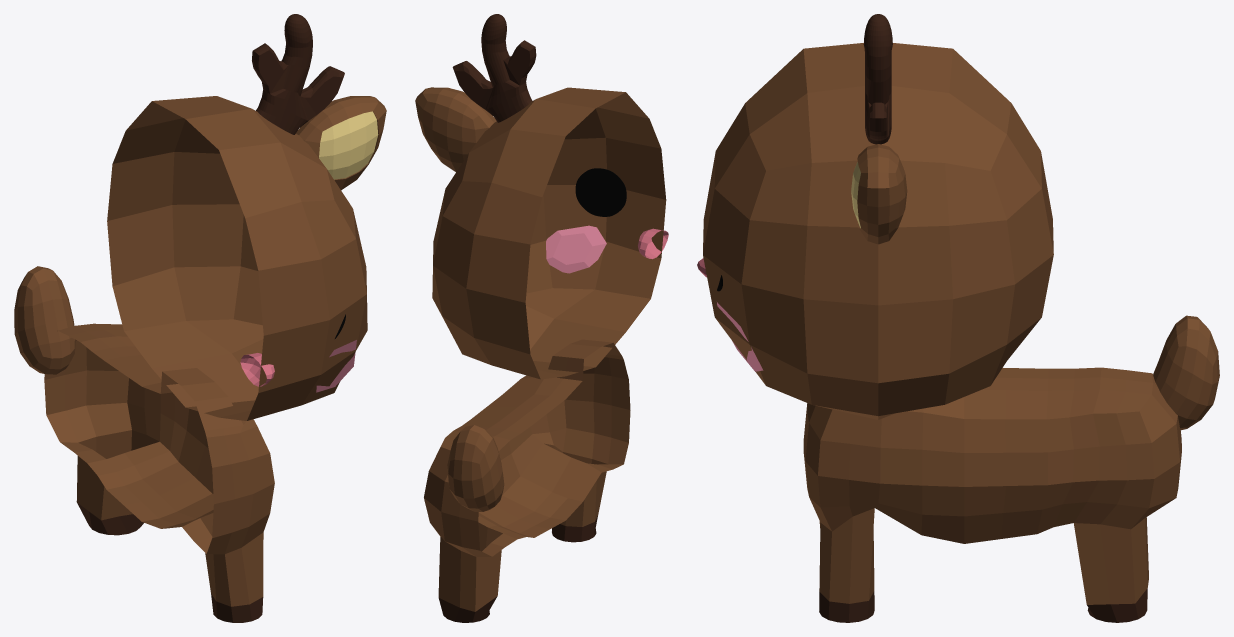
The model's file is 26-11-06 Deer final.glb.
The picture shows the model from 3 angles, left to right: view 1: azimuth 30°, elevation 25°; view 2: azimuth 150°, elevation 25°; view 3: azimuth 270°, elevation 25°; orthographic projection. The views are drawn at different scales.
Visible parts, largest first — view 1: Cube, Cube.001, Cylinder.002, Cube.002, Cube.003, Nose, Plane.001; view 2: Cube, Cube.001, Cylinder.002, Cube.002, Cube.003, Plane.001, Plane.002, Nose; view 3: Cube, Cube.001, Cube.003, Cube.002, Cylinder.002.
Boxes of the visible parts, <box> form: Cube: <box>107,96,367,420</box>; Cube.001: <box>44,323,274,622</box>; Cylinder.002: <box>252,14,344,134</box>; Cube.002: <box>296,96,386,190</box>; Cube.003: <box>14,266,75,374</box>; Nose: <box>240,353,274,386</box>; Plane.001: <box>316,340,356,392</box>; Cube: <box>432,87,666,379</box>; Cube.001: <box>424,339,630,622</box>; Cylinder.002: <box>452,14,536,122</box>; Cube.002: <box>415,87,496,171</box>; Cube.003: <box>447,425,504,511</box>; Plane.001: <box>546,225,606,273</box>; Plane.002: <box>575,168,626,216</box>; Nose: <box>638,228,668,259</box>; Cube: <box>703,43,1053,419</box>; Cube.001: <box>803,367,1181,622</box>; Cube.003: <box>1153,315,1219,430</box>; Cube.002: <box>851,144,907,244</box>; Cylinder.002: <box>863,14,892,144</box>.
Bounding box in the file's own units: 3.33 × 7.91 × 5.91.
